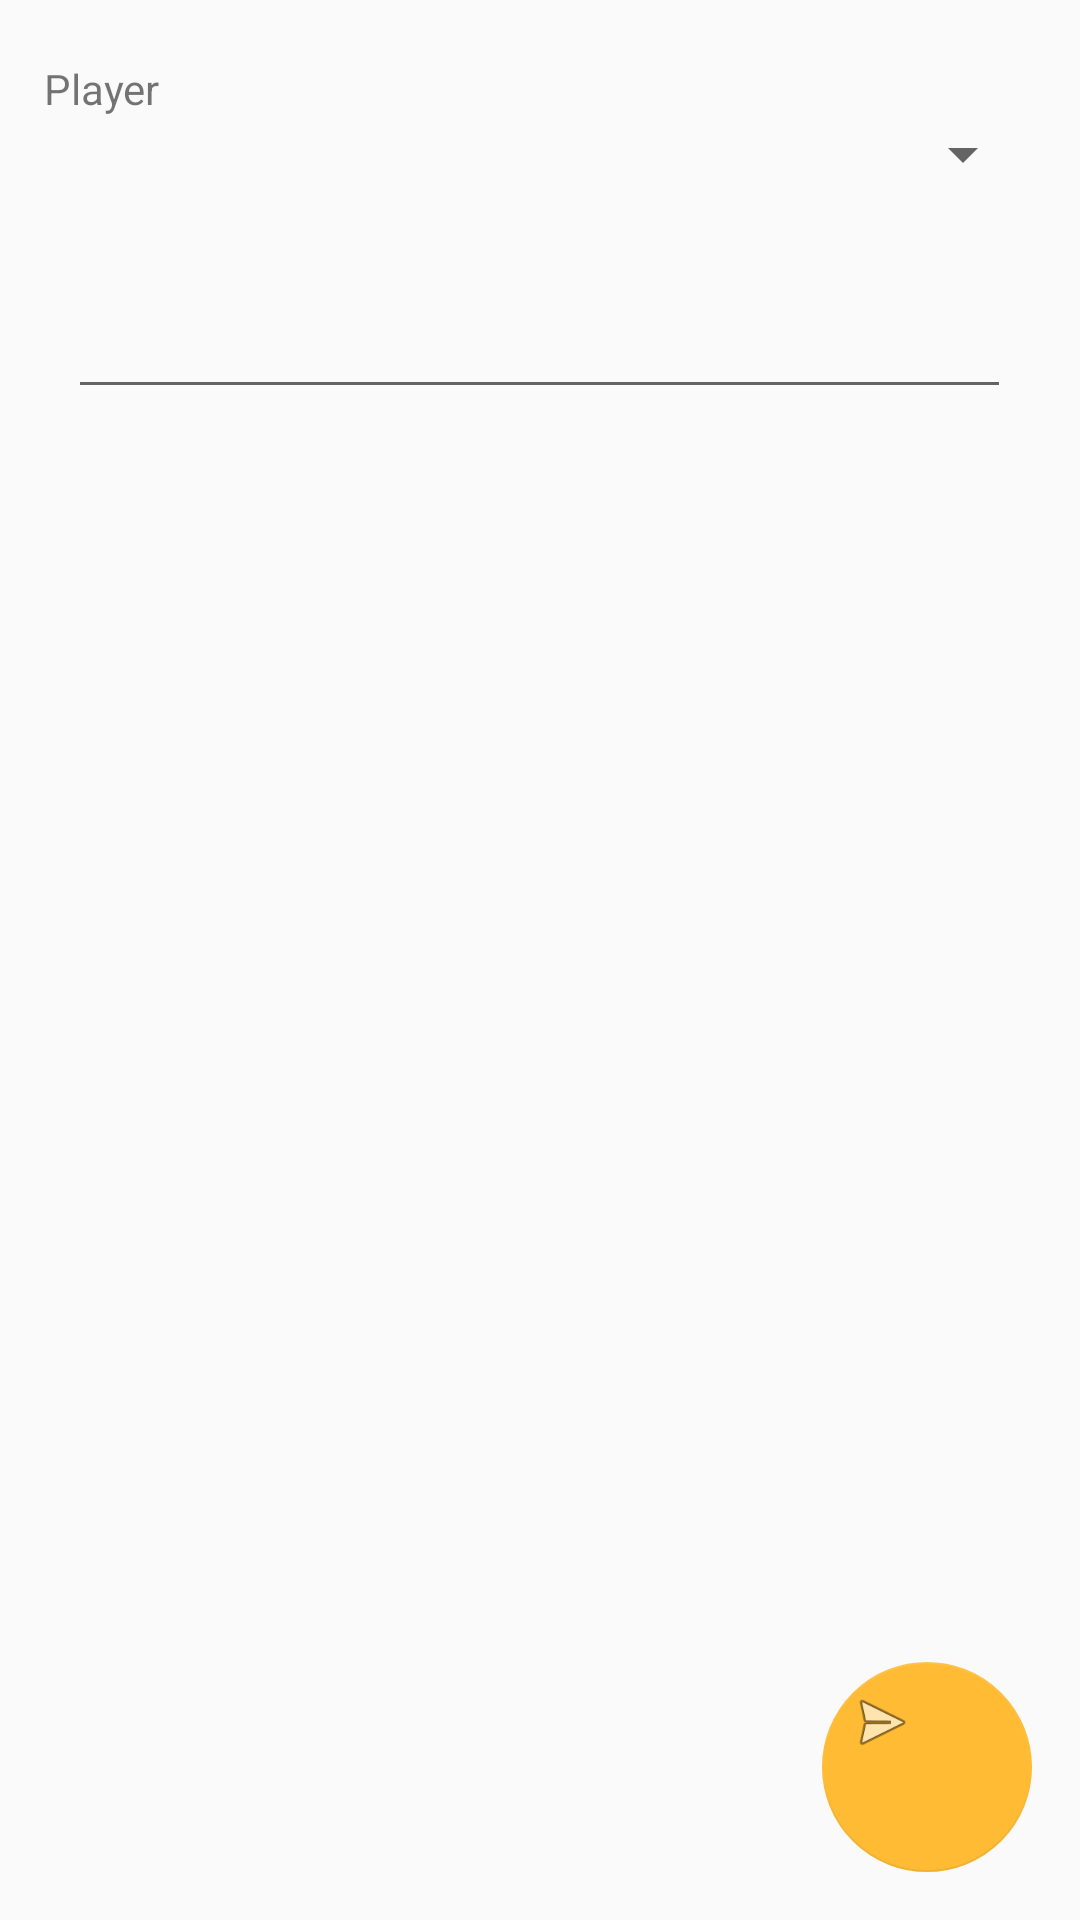

Screen size 1080 × 1920. Icon name, then its center in pixels as point (x, y):
send: point (927, 1767)
